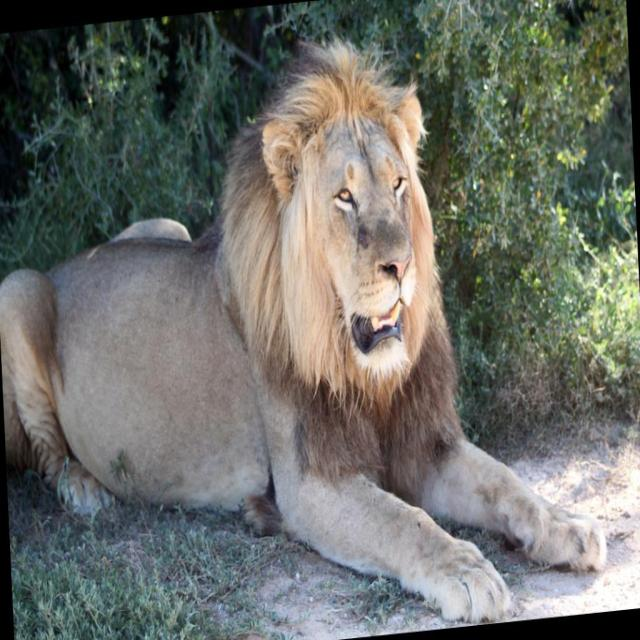Lion: (0, 7, 609, 639)
